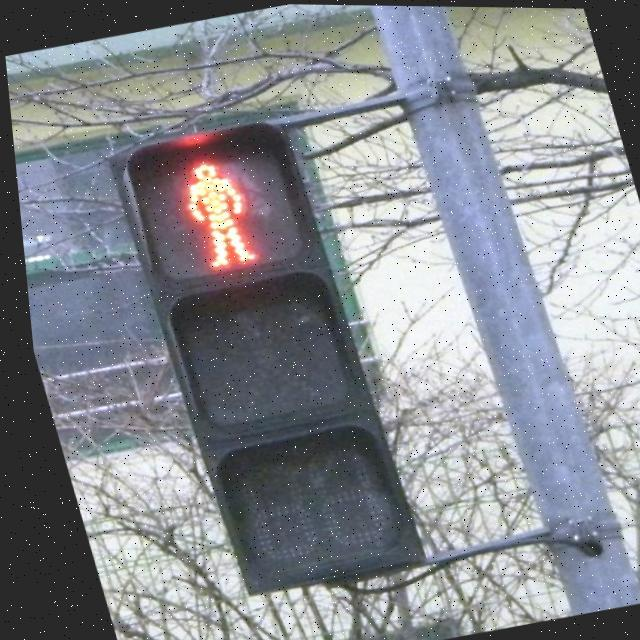red_light: (134, 131, 302, 281)
